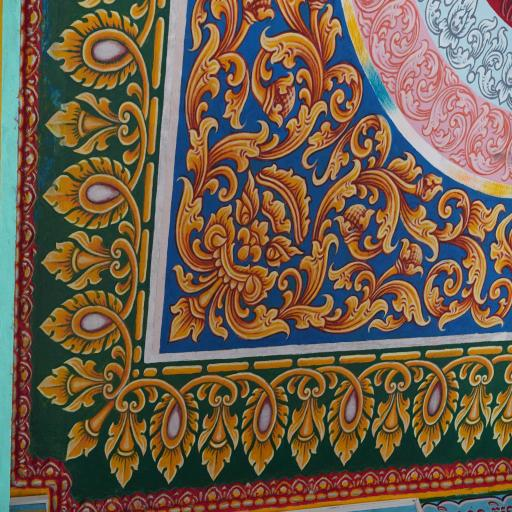la: (39, 146, 146, 236), (43, 10, 159, 88), (376, 38, 454, 128), (232, 360, 288, 481), (40, 284, 130, 350), (326, 362, 379, 466), (148, 372, 198, 480), (358, 0, 421, 79), (422, 75, 477, 156), (410, 354, 449, 456), (463, 98, 512, 176), (231, 115, 278, 186), (287, 283, 338, 341), (192, 21, 226, 103), (256, 28, 307, 78), (238, 296, 290, 345), (387, 274, 430, 333), (315, 128, 352, 192), (297, 114, 333, 177), (168, 290, 204, 348), (464, 191, 503, 240), (219, 72, 249, 134), (389, 144, 429, 188), (316, 0, 341, 69), (328, 254, 365, 300), (174, 260, 204, 300), (205, 300, 228, 348)
lua: (31, 67, 148, 153), (35, 223, 136, 304), (31, 345, 118, 420), (191, 366, 242, 481), (368, 356, 416, 463), (283, 368, 330, 470), (454, 351, 494, 465), (105, 385, 148, 489), (64, 396, 106, 473), (491, 350, 512, 458)
